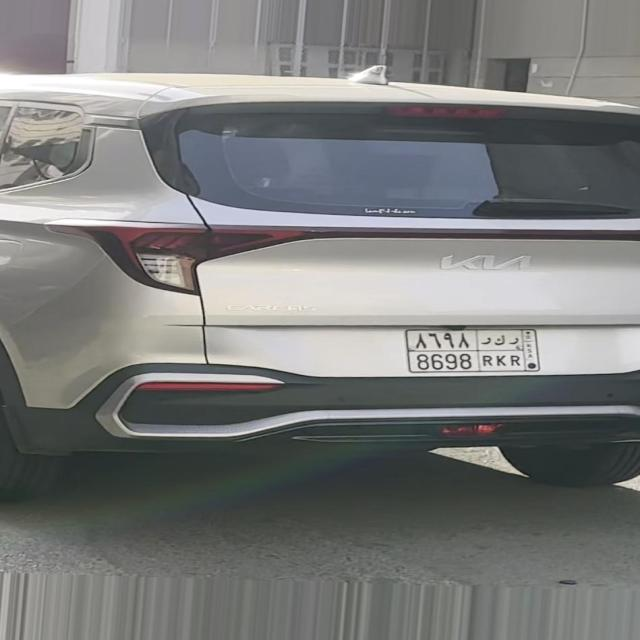Car-plate: (395, 312, 565, 383)
